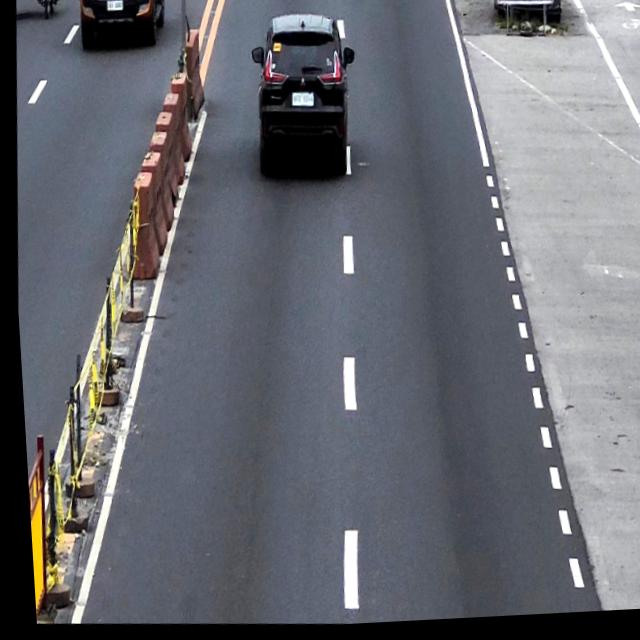Car: (242, 11, 362, 188)
License-Plate: (289, 95, 313, 111)
